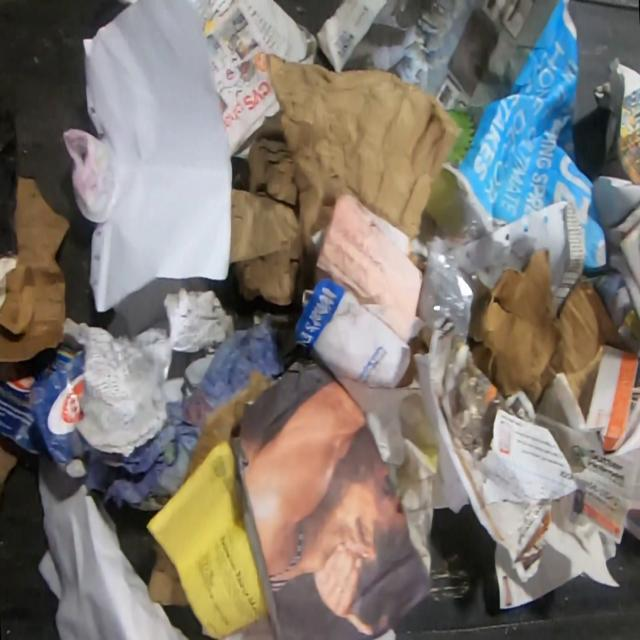cardboard: (466, 249, 639, 426), (0, 175, 72, 362), (176, 369, 270, 495), (0, 346, 87, 467), (148, 537, 189, 605)
rigid_plastic: (420, 234, 476, 342)
soft_plastic: (63, 129, 119, 223), (4, 108, 16, 250)
